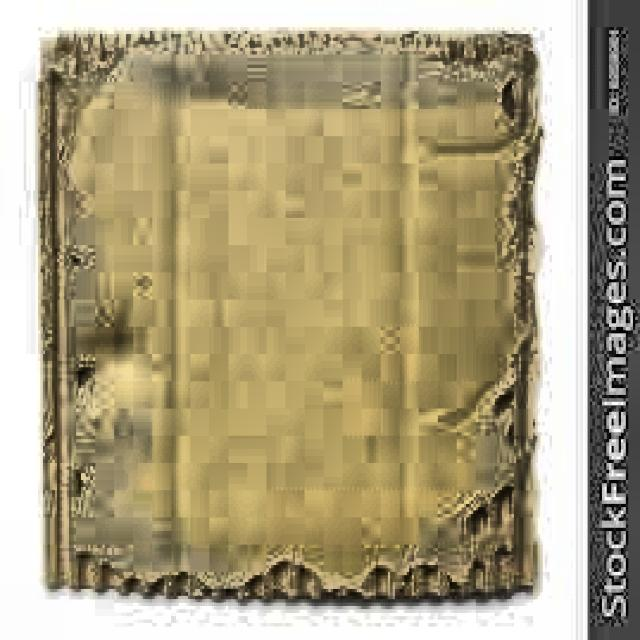Cardbox: (32, 7, 552, 610)
